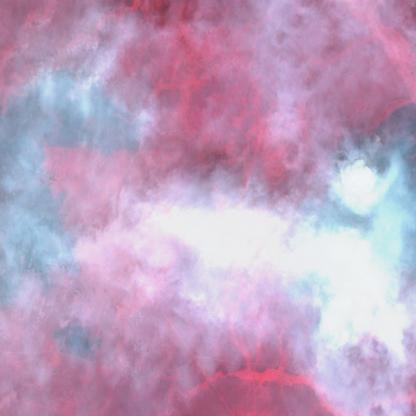fire: (281, 121, 391, 367)
